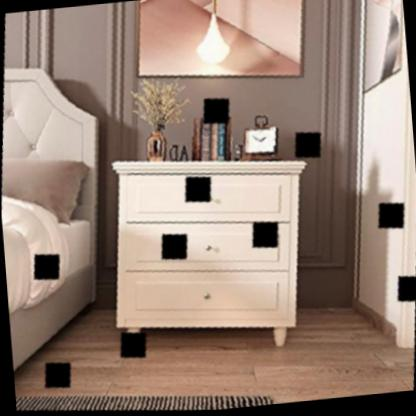Nightstand: (103, 147, 321, 357)
